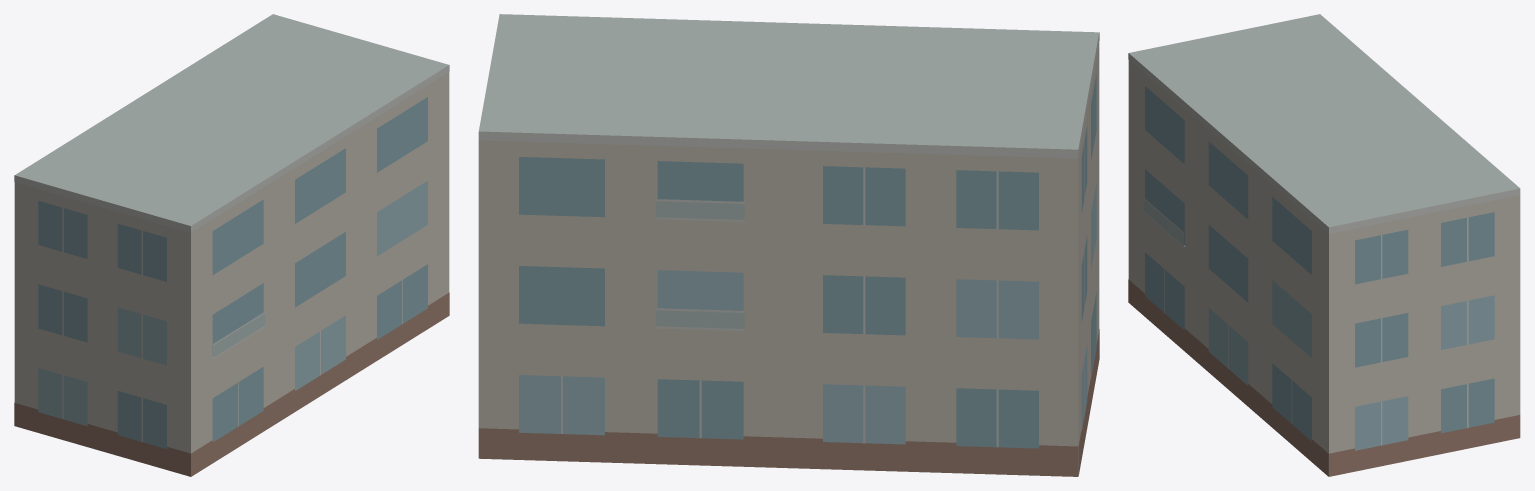
File: survey-upis-32625147.glb
The picture shows the model from 3 angles, left to right: view 1: azimuth 30°, elevation 25°; view 2: azimuth 150°, elevation 25°; view 3: azimuth 270°, elevation 25°; orthographic projection. The views are drawn at different scales.
Visible parts, largest first — view 1: survey-upis-32625147.tmp; view 2: survey-upis-32625147.tmp; view 3: survey-upis-32625147.tmp.
Boxes of the visible parts, left/top/right/bottom form: survey-upis-32625147.tmp: left=14, top=14, right=449, bottom=476; survey-upis-32625147.tmp: left=478, top=14, right=1099, bottom=476; survey-upis-32625147.tmp: left=1128, top=14, right=1520, bottom=476.
Bounding box in the file's own units: 16.69 × 9.1 × 12.96.
